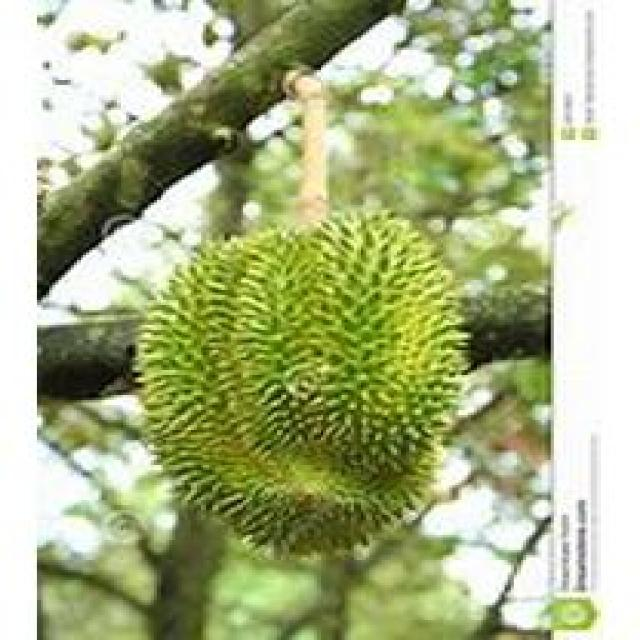Fruit: (327, 258, 576, 490)
